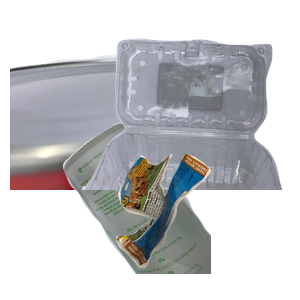glass: (60, 120, 300, 300)
metal: (10, 52, 250, 232)
plastic: (80, 36, 300, 216)
trash: (114, 151, 300, 300)
